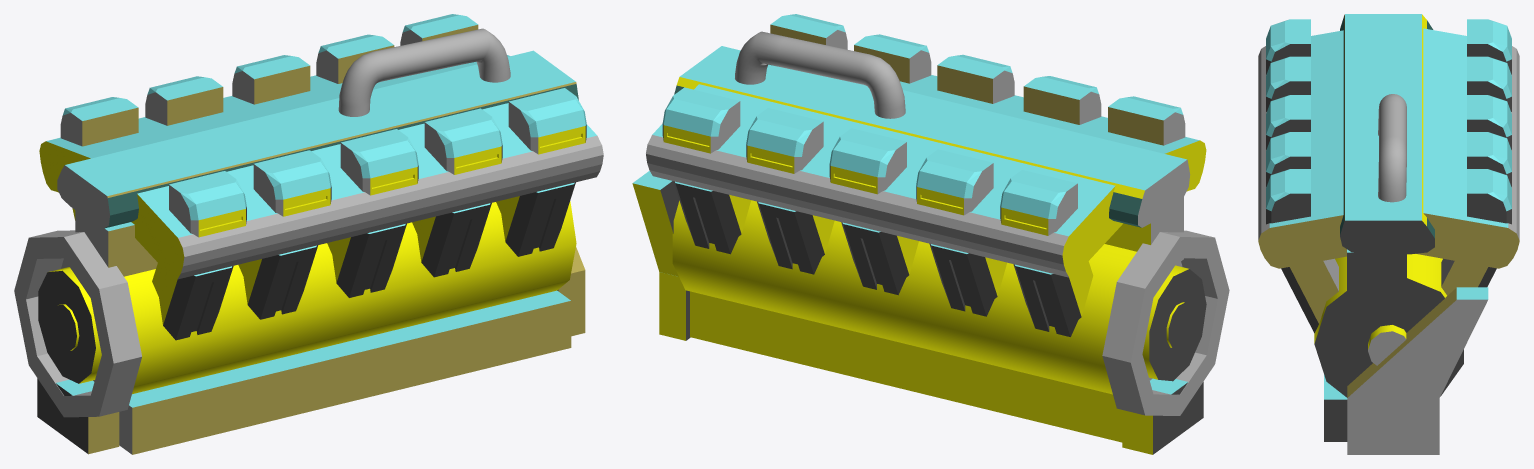
File: diesel_engine.FBX
The picture shows the model from 3 angles, left to right: view 1: azimuth 30°, elevation 25°; view 2: azimuth 150°, elevation 25°; view 3: azimuth 270°, elevation 25°; orthographic projection. The views are drawn at different scales.
Parts seen in each view (by area): view 1: Cylinder001; view 2: Cylinder001; view 3: Cylinder001.
Boxes of the visible parts, x1,y1,x2,y2 form: Cylinder001: (14, 14, 603, 454); Cylinder001: (632, 14, 1229, 454); Cylinder001: (1258, 14, 1519, 454).
Bounding box in the file's own units: 8623 × 5079 × 4352.
